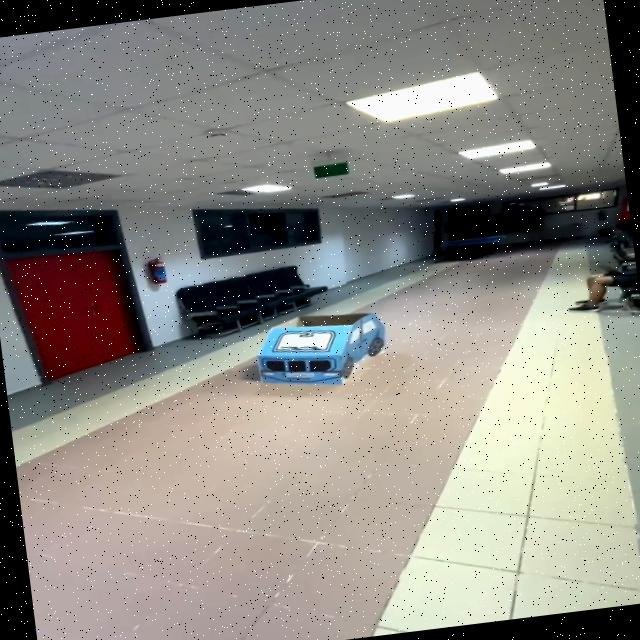blue_car: (212, 293, 410, 415)
